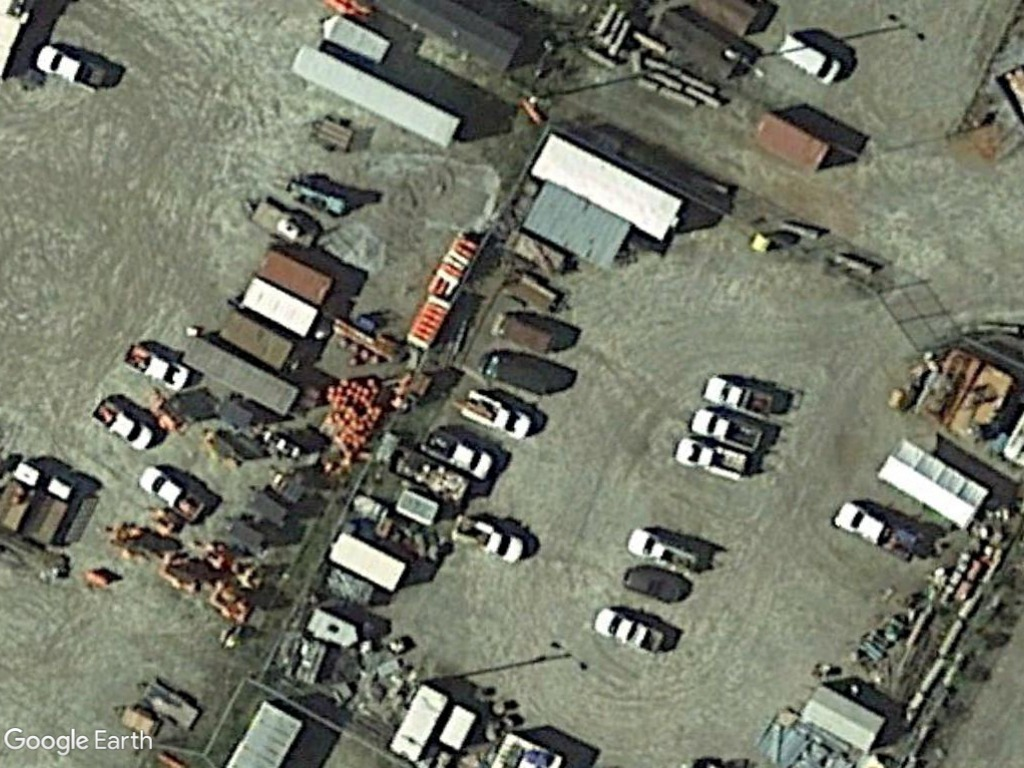other: (826, 495, 907, 556), (458, 385, 536, 448), (83, 391, 157, 457), (419, 421, 496, 484), (33, 38, 108, 97), (136, 463, 205, 525), (668, 434, 751, 484), (696, 374, 781, 422), (589, 604, 664, 657), (452, 512, 525, 566), (622, 525, 698, 575), (687, 406, 768, 452), (121, 344, 194, 395)
van: (771, 26, 847, 88)
